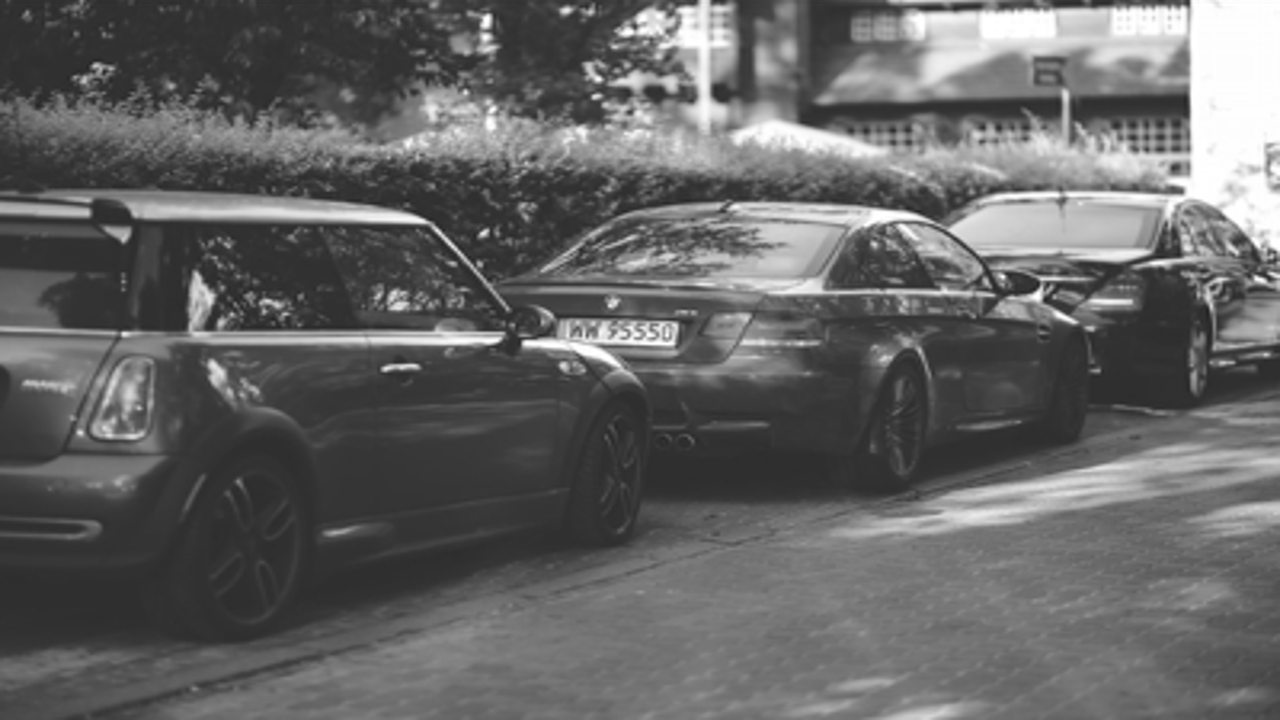license: (553, 311, 688, 351)
